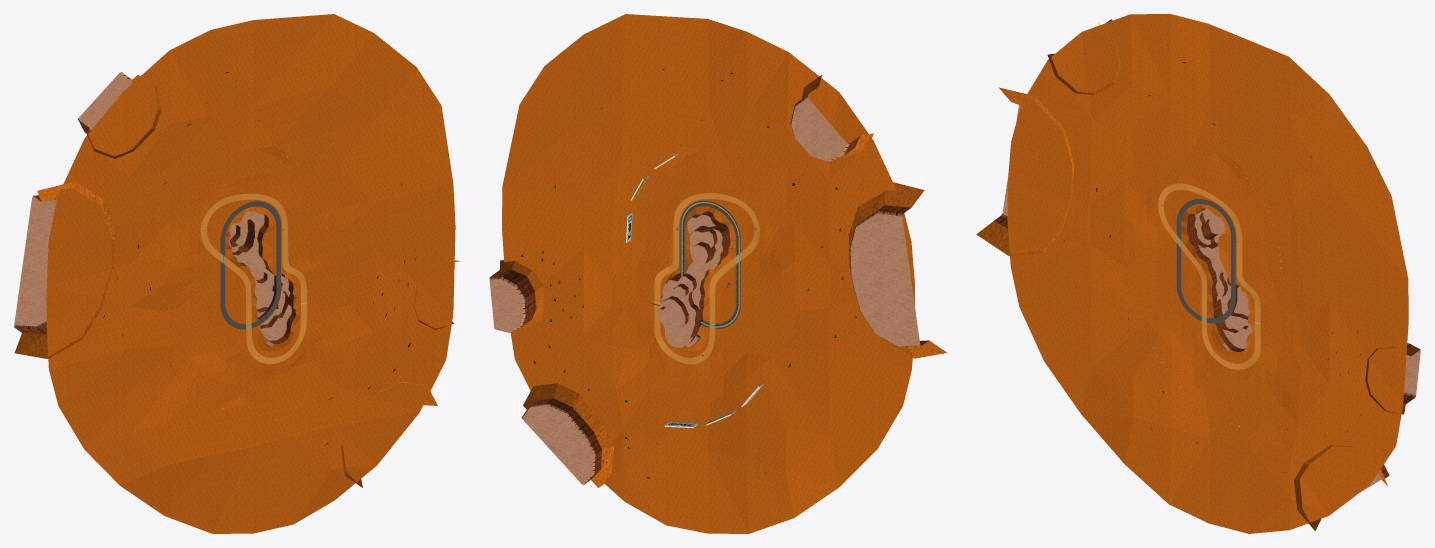
3 renders of one model, left to right at view 1: azimuth 30°, elevation 25°; view 2: azimuth 150°, elevation 25°; view 3: azimuth 330°, elevation 25°, orthographic. The views are drawn at different scales.
Parts seen in each view (by area): view 1: kd_sand01.001, kd_rockTOP01.001, kd_roadALL.001, kd_rock01.001; view 2: kd_sand01.001, kd_rockTOP01.001, kd_rock01.001, kd_roadALL.001, kd_senro01.001, kd_kanbanALL.001; view 3: kd_sand01.001, kd_roadALL.001, kd_rockTOP01.001, kd_rock01.001.
Boxes of the visible parts, box(x1,y1,x2,y2) form: kd_sand01.001: box(14, 14, 460, 533); kd_rockTOP01.001: box(14, 73, 291, 346); kd_roadALL.001: box(200, 193, 306, 364); kd_rock01.001: box(14, 72, 295, 347); kd_sand01.001: box(499, 14, 946, 533); kd_rockTOP01.001: box(489, 97, 920, 483); kd_rock01.001: box(489, 95, 928, 484); kd_roadALL.001: box(654, 193, 759, 364); kd_senro01.001: box(681, 202, 740, 328); kd_kanbanALL.001: box(626, 153, 764, 428); kd_sand01.001: box(976, 14, 1410, 533); kd_roadALL.001: box(1158, 183, 1260, 369); kd_rockTOP01.001: box(1002, 105, 1420, 492); kd_rock01.001: box(994, 19, 1420, 478).
Bounding box in the file's own units: 1819782 × 2005916 × 135320.
Materials: 11 (11 with a texture image).
